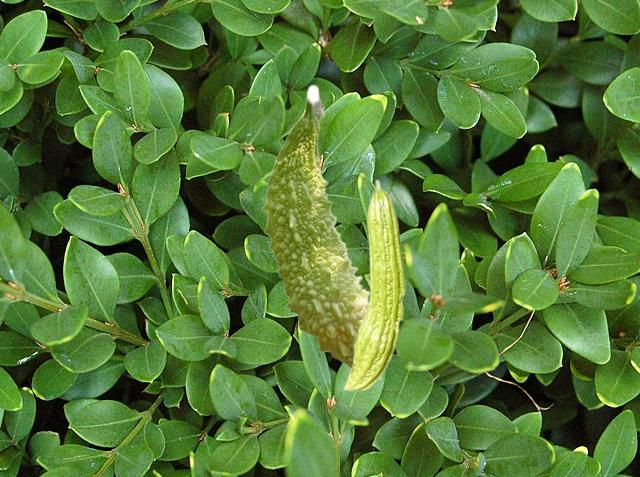ampalaya: (259, 84, 383, 382), (342, 179, 407, 393)
